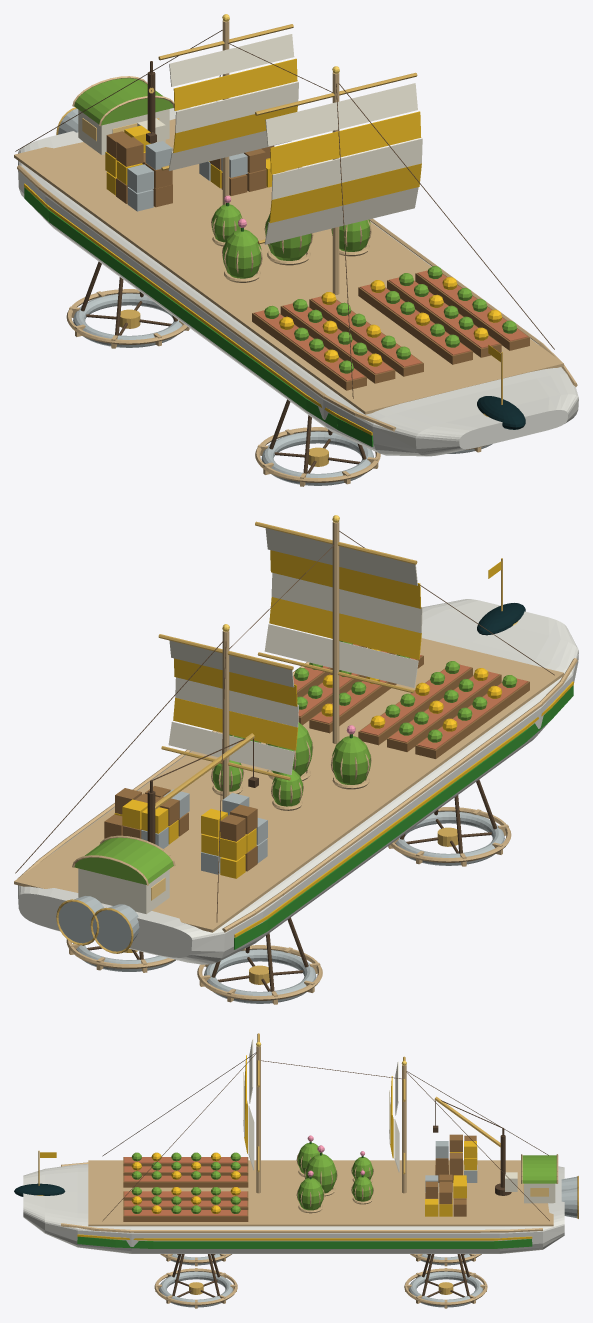
Rendered from cargo_barge.obj.
3 views of the same model, one above another, from view 1: azimuth 30°, elevation 25°; view 2: azimuth 150°, elevation 25°; view 3: azimuth 270°, elevation 25° (orthographic). The views are drawn at different scales.
Visible parts, largest first — view 1: cargo_barge; view 2: cargo_barge; view 3: cargo_barge.
Boxes of the visible parts, x1=… form: cargo_barge: x1=14, y1=14, x2=578, y2=486; cargo_barge: x1=14, y1=515, x2=578, y2=1004; cargo_barge: x1=14, y1=1033, x2=578, y2=1308.
Size of the model in its own units: 195 by 270 by 600.
1 material, 1 textured.
